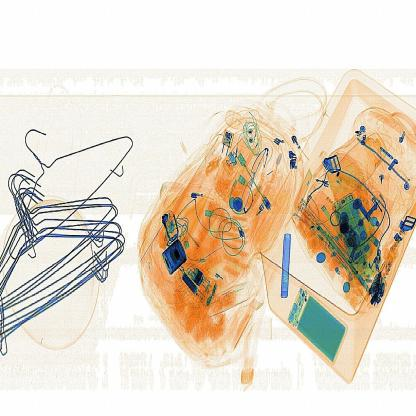pliers: (279, 228, 295, 303)
